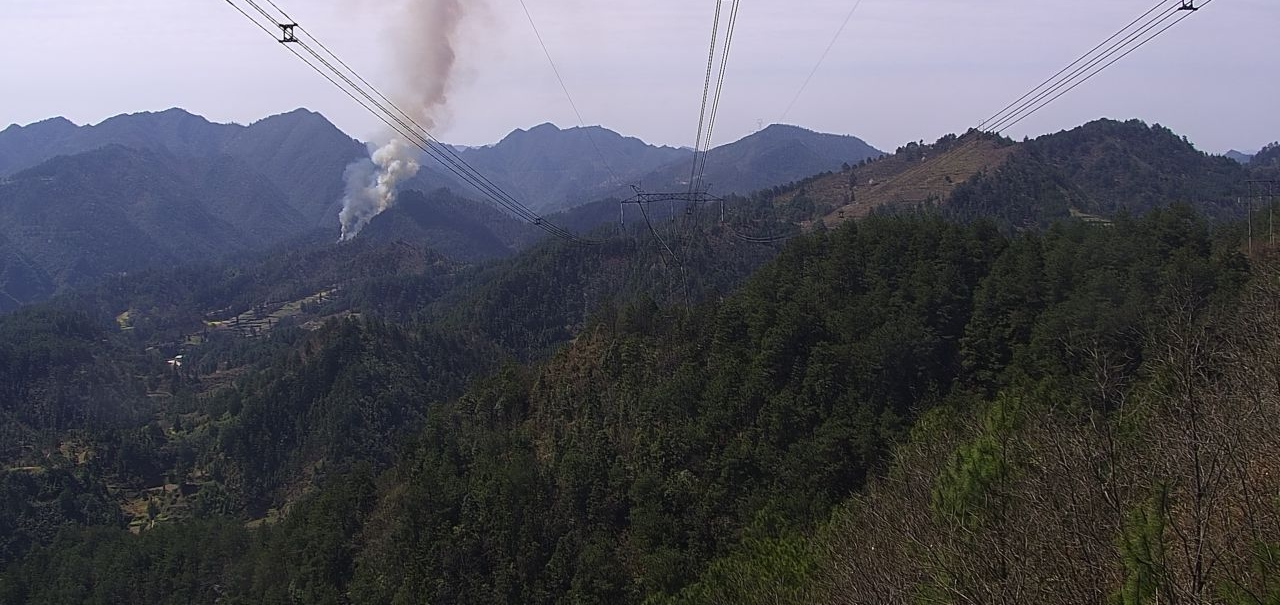烟雾: (336, 0, 503, 244)
